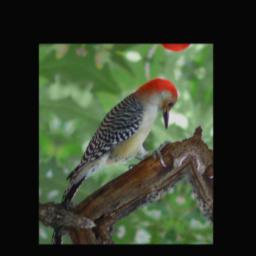Woodpecker: (56, 59, 189, 230)
